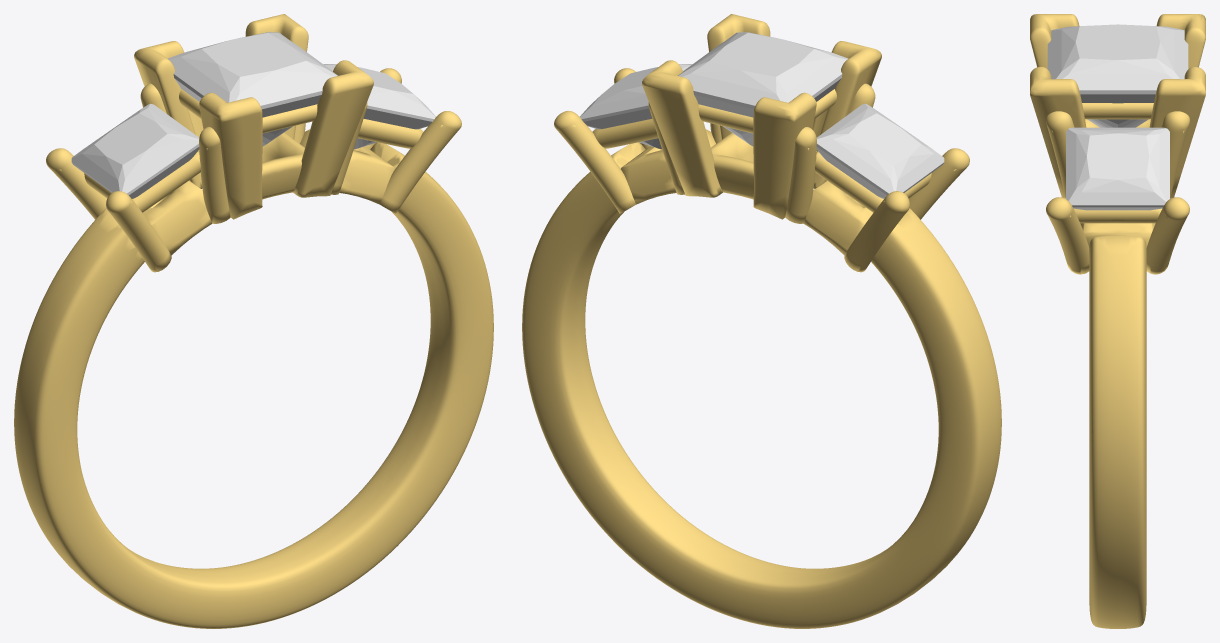
File: diamond-princess-yellowgold-protectededges4prongs-straightband-3stone.glb
The picture shows the model from 3 angles, left to right: view 1: azimuth 30°, elevation 25°; view 2: azimuth 150°, elevation 25°; view 3: azimuth 270°, elevation 25°; orthographic projection.
Visible parts, largest first — view 1: metal, stone, side.001, side; view 2: metal, stone, side.001, side; view 3: metal, stone, side.
Part boxes in pixels (bbox=[...]): metal: bbox=[14, 14, 493, 628]; stone: bbox=[167, 32, 337, 146]; side.001: bbox=[71, 103, 199, 198]; side: bbox=[323, 64, 435, 149]; metal: bbox=[522, 14, 1001, 628]; stone: bbox=[678, 32, 848, 146]; side.001: bbox=[816, 103, 944, 198]; side: bbox=[580, 64, 692, 149]; metal: bbox=[1030, 14, 1205, 628]; stone: bbox=[1047, 24, 1188, 127]; side: bbox=[1066, 127, 1169, 210].
Bounding box in the file's own units: 20.51 × 23.85 × 6.77.
